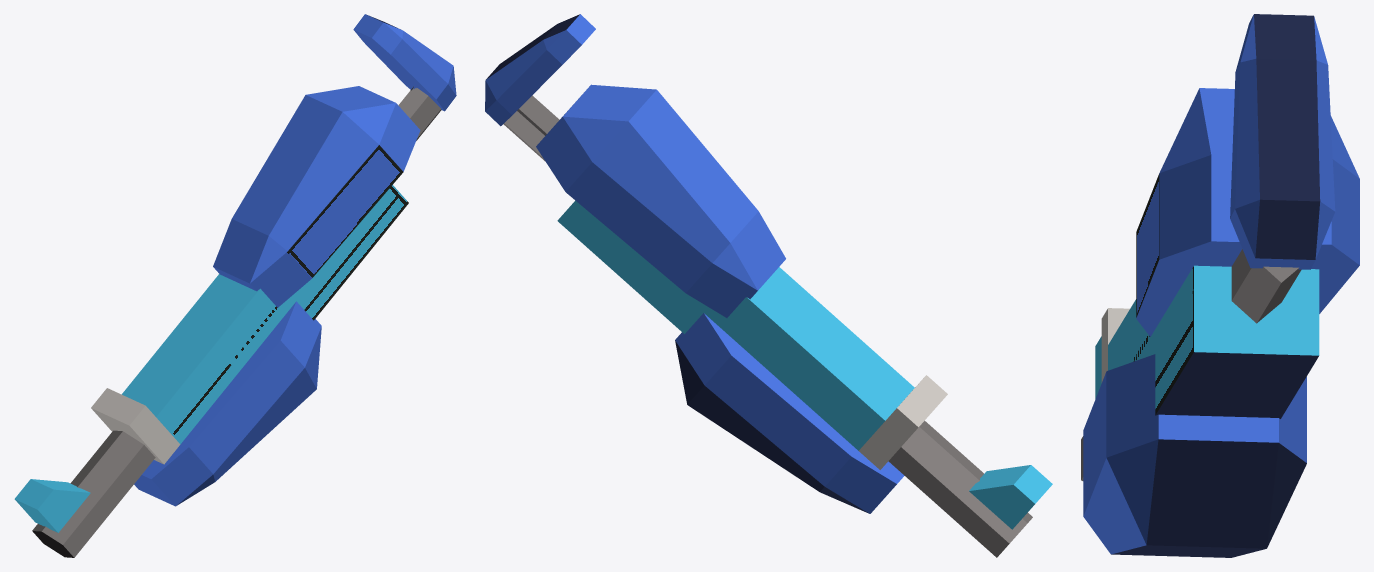
Rendered from PlasmaRifleLeftSide.gltf.
3 views of the same model, side by side, from view 1: azimuth 30°, elevation 25°; view 2: azimuth 150°, elevation 25°; view 3: azimuth 270°, elevation 25° (orthographic). The views are drawn at different scales.
Parts seen in each view (by area): view 1: Pad, Body, Grip, barrel, Stock, thing, sight, stock; view 2: Pad, Body, Grip, barrel, Stock, sight, thing, stock; view 3: Grip, Stock, Body, Pad, stock, thing, sight.
Part boxes in pixels (box(x1,y1,x2,y2)): Pad: box(213, 86, 420, 307); Body: box(122, 185, 408, 444); Grip: box(134, 301, 321, 506); barrel: box(32, 430, 155, 557); Stock: box(353, 14, 456, 111); thing: box(91, 388, 180, 464); sight: box(14, 479, 90, 532); stock: box(398, 86, 441, 140); Pad: box(536, 84, 785, 317); Body: box(557, 200, 914, 450); Grip: box(675, 313, 904, 513); barrel: box(888, 420, 1032, 557); Stock: box(485, 14, 595, 126); sight: box(969, 465, 1052, 529); thing: box(859, 375, 947, 469); stock: box(503, 95, 559, 161); Grip: box(1083, 354, 1306, 557); Stock: box(1230, 14, 1335, 269); Body: box(1108, 265, 1319, 418); Pad: box(1136, 88, 1359, 336); stock: box(1231, 249, 1301, 323); thing: box(1101, 308, 1129, 382); sight: box(1095, 336, 1101, 398).
Bounding box in the file's own units: 1.27 × 1.11 × 0.3446.
Materials: 1 (1 with a texture image).
